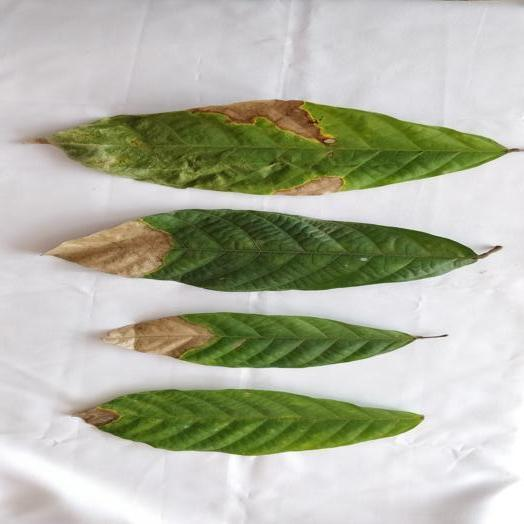Potassium: (44, 100, 512, 195), (49, 209, 498, 291), (74, 389, 423, 455), (104, 312, 439, 367)
